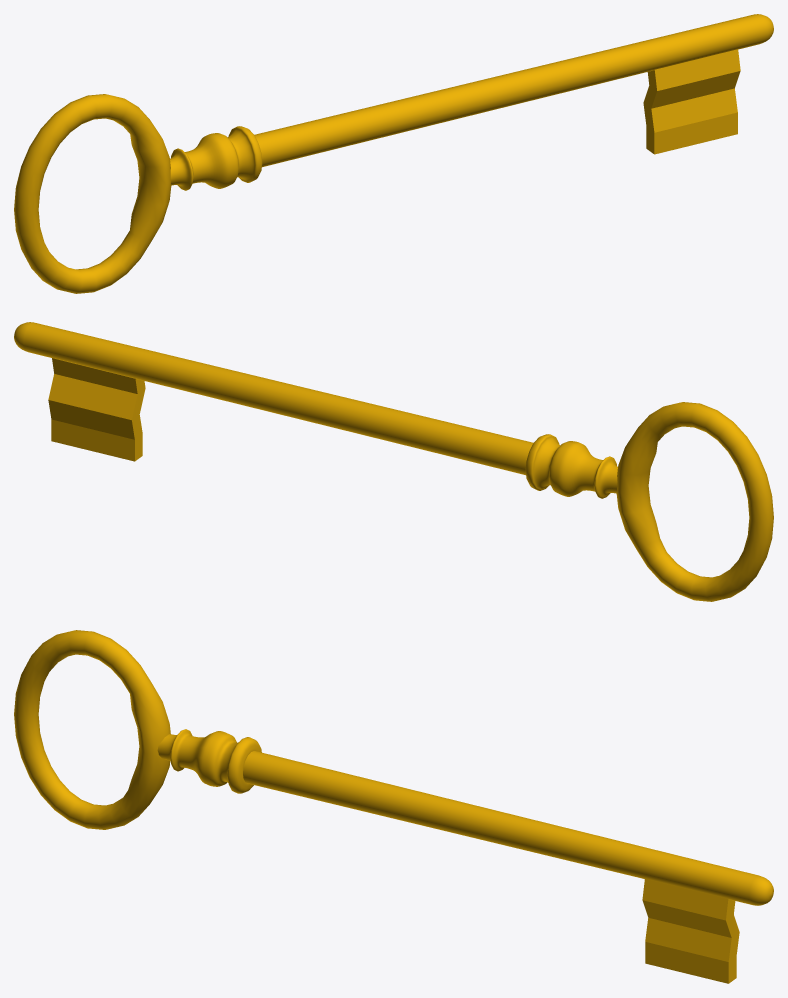
The model's file is key.FBX.
3 views of the same model, one above another, from view 1: azimuth 30°, elevation 25°; view 2: azimuth 150°, elevation 25°; view 3: azimuth 330°, elevation 25° (orthographic).
Parts seen in each view (by area): view 1: Ellipse01; view 2: Ellipse01; view 3: Ellipse01.
Boxes of the visible parts, x1=… form: Ellipse01: x1=14, y1=14, x2=773, y2=293; Ellipse01: x1=14, y1=322, x2=773, y2=601; Ellipse01: x1=14, y1=630, x2=773, y2=983.
Bounding box in the file's own units: 125 × 30.75 × 8.25.
